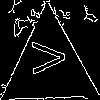V: (24, 40, 65, 75)
